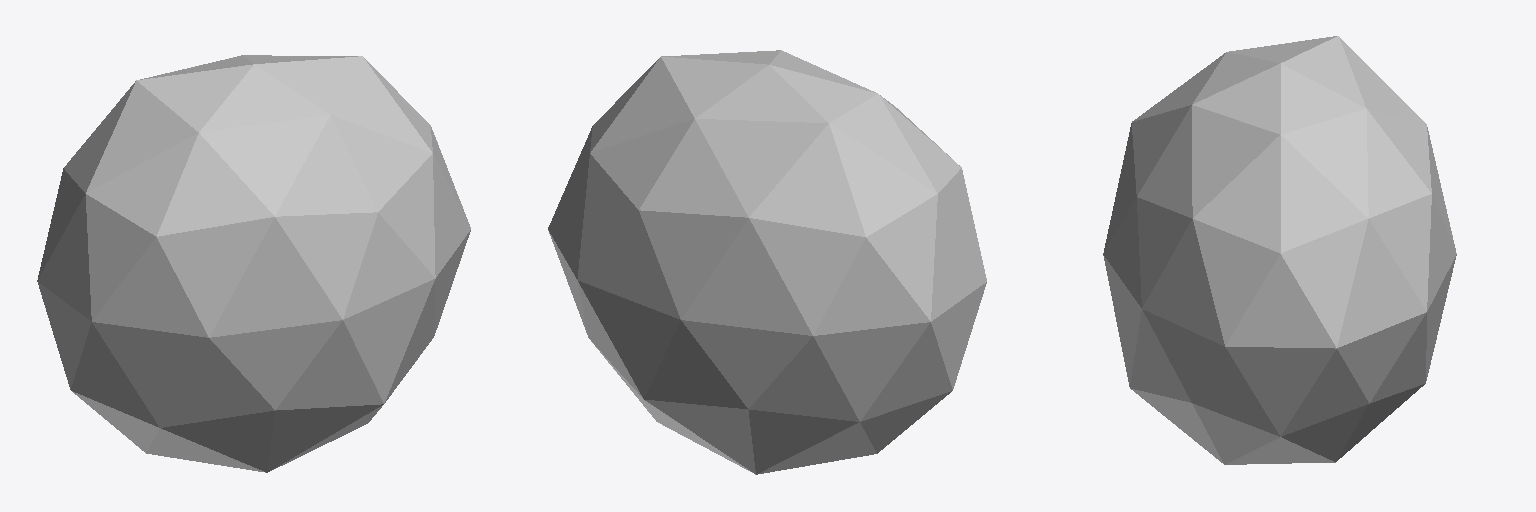
Rendered from asteroid_1.obj.
The picture shows the model from 3 angles: view 1: azimuth 30°, elevation 25°; view 2: azimuth 150°, elevation 25°; view 3: azimuth 270°, elevation 25°; orthographic projection.
Parts seen in each view (by area): view 1: Asteroid_1; view 2: Asteroid_1; view 3: Asteroid_1.
Part boxes in pixels (x1,y1,x2,y2): Asteroid_1: (37,55,470,472); Asteroid_1: (548,50,986,474); Asteroid_1: (1103,36,1456,464).
Bounding box in the file's own units: 2.07 × 1.98 × 1.65.